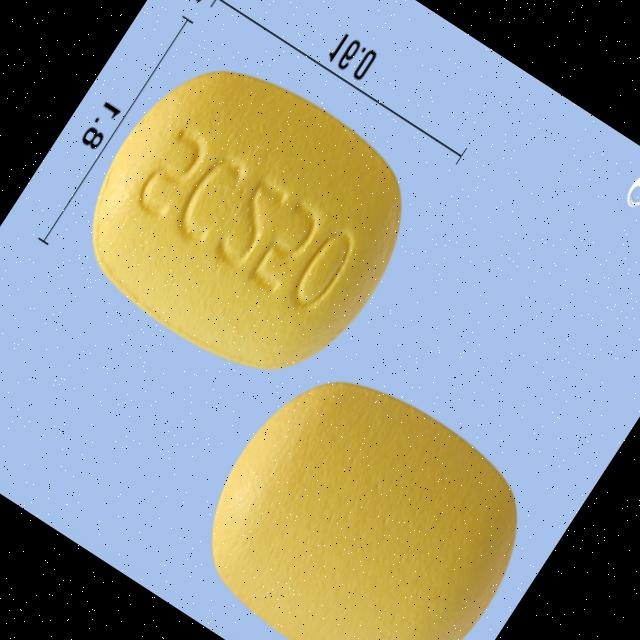Ceclacin: (46, 21, 449, 420), (165, 336, 560, 640)
